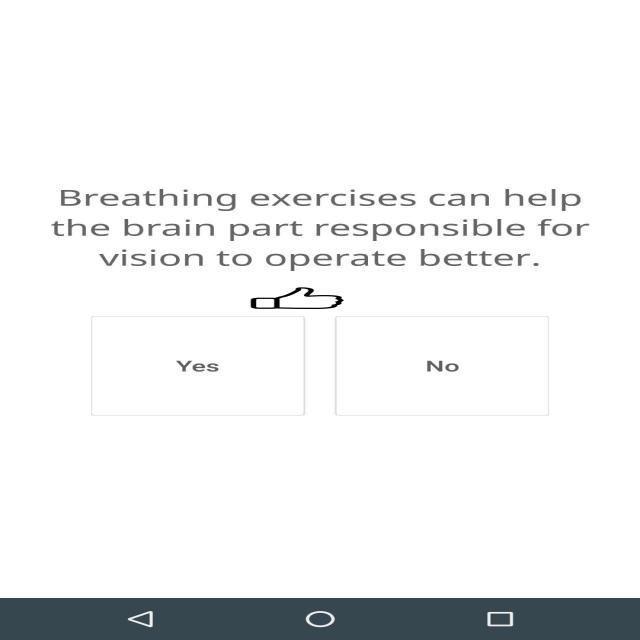privacy zuckering: (249, 287, 345, 309)
